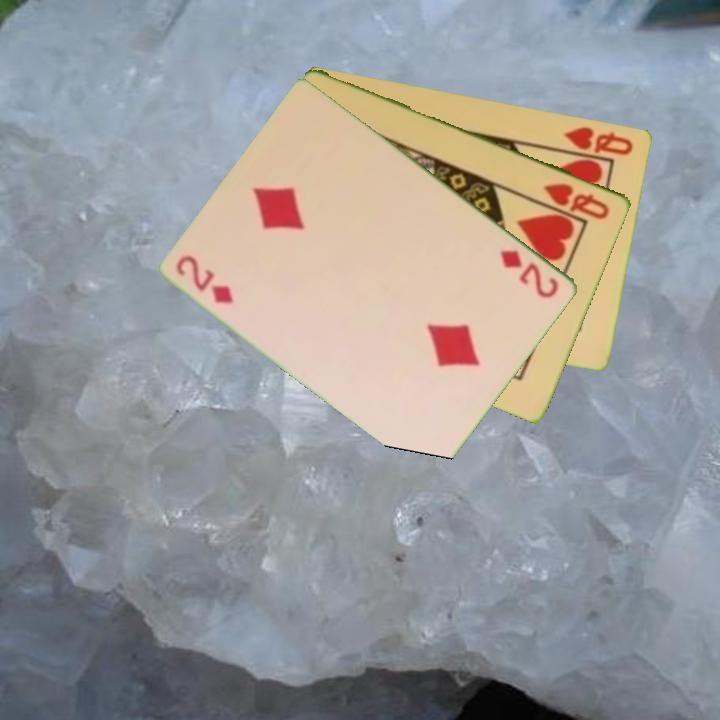2d: (173, 251, 238, 307), (497, 246, 563, 301)
Qh: (555, 122, 637, 162), (541, 179, 613, 222)
